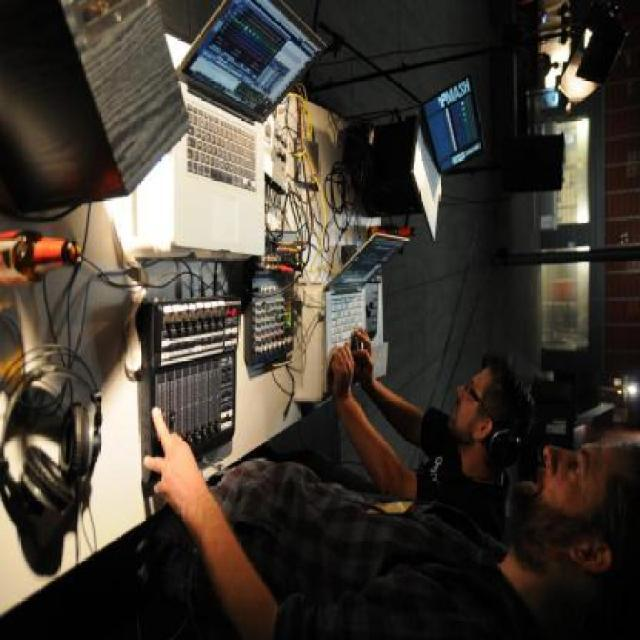earphone: (0, 348, 123, 561), (482, 378, 536, 472)
laptop_computer: (165, 0, 307, 265), (408, 83, 495, 232), (325, 228, 398, 368)
